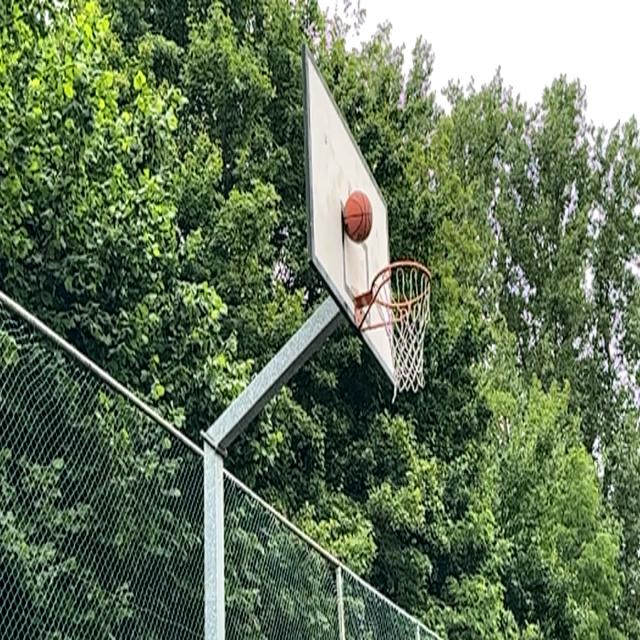rebound_hit: (340, 190, 373, 246)
